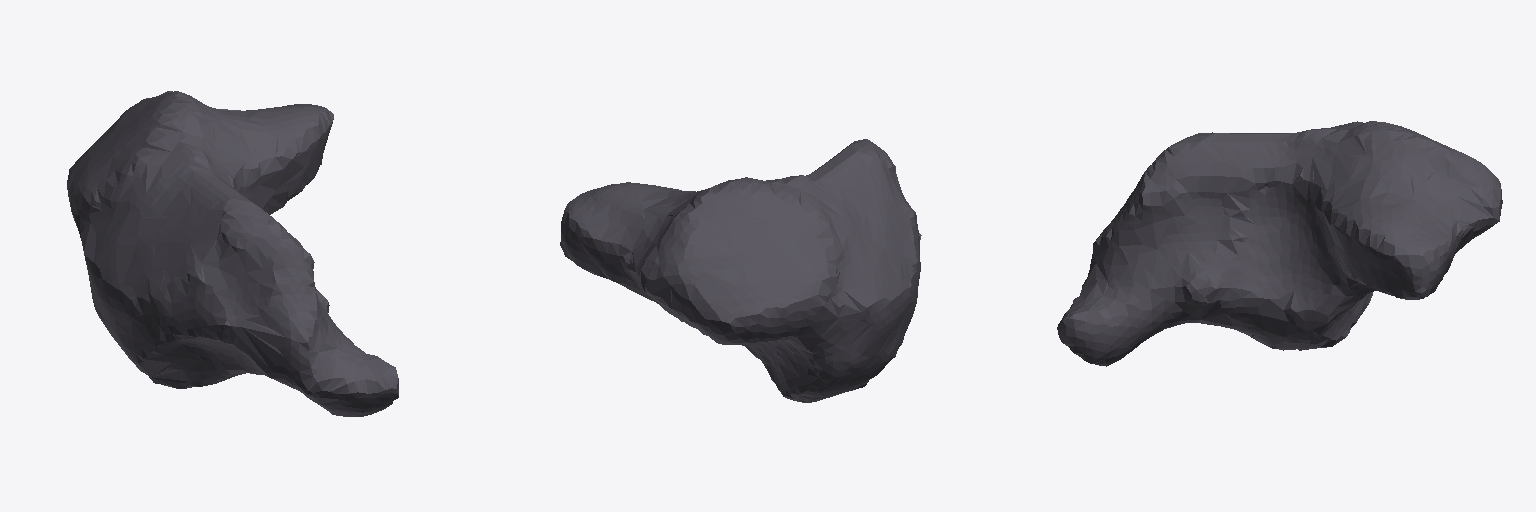
Rendered from Model_10303_LH__Ventral_lateral_thalamic_nucleus__lateral_part_(VLLa).obj.
The picture shows the model from 3 angles: view 1: azimuth 30°, elevation 25°; view 2: azimuth 150°, elevation 25°; view 3: azimuth 270°, elevation 25°; orthographic projection.
Bounding box in the file's own units: 2.81 × 2.27 × 3.91.